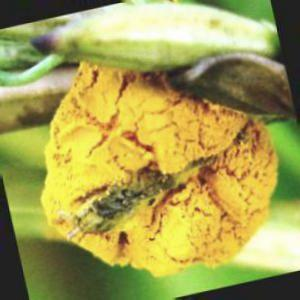Leaf_Scald: (84, 76, 193, 262), (173, 126, 272, 264), (45, 103, 70, 241)
